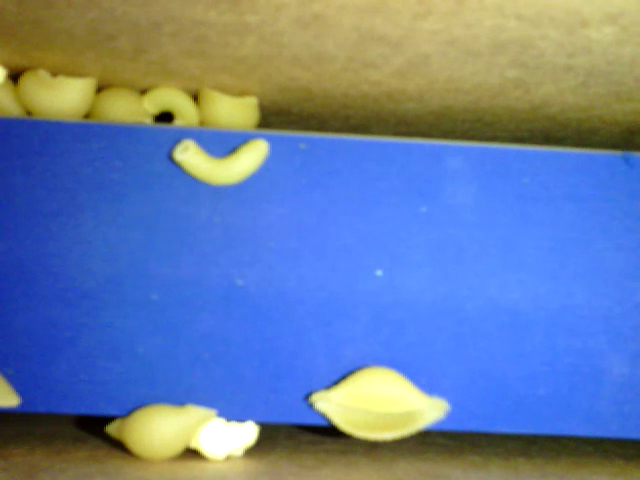elbow: (167, 139, 270, 186), (142, 86, 199, 126)
shell: (306, 365, 452, 442), (104, 403, 218, 461), (18, 68, 97, 119), (195, 84, 260, 130), (90, 86, 153, 124)
